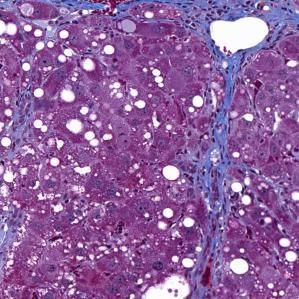fibrosis: (204, 52, 241, 219)
